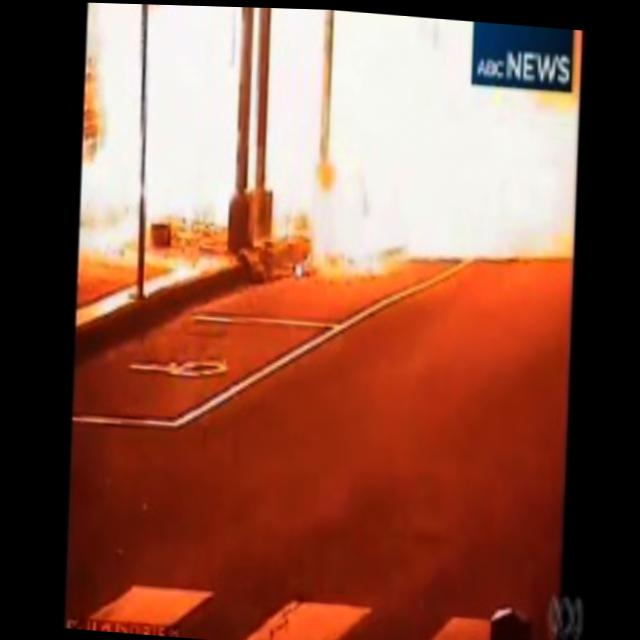fire: (320, 10, 471, 289), (137, 3, 243, 227), (456, 80, 578, 266), (77, 2, 148, 253), (265, 6, 334, 229)
